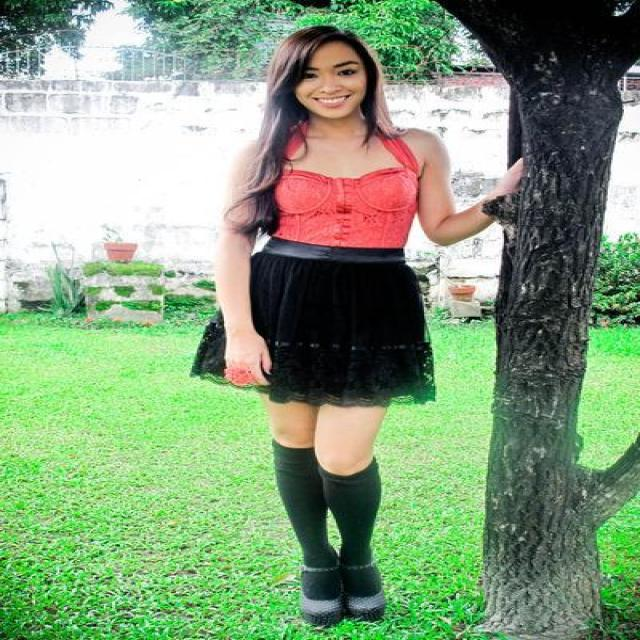shirt: (275, 141, 426, 247)
shoe: (288, 562, 410, 632)
skirt: (190, 251, 436, 417)
